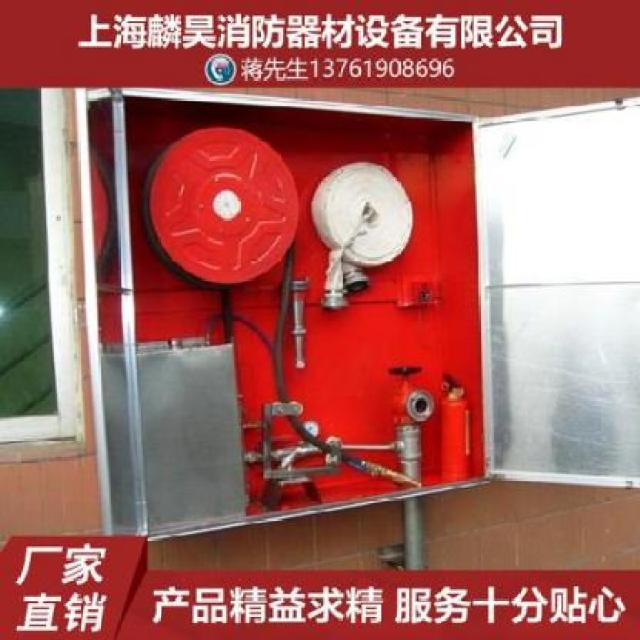firehydrant: (72, 83, 640, 553)
